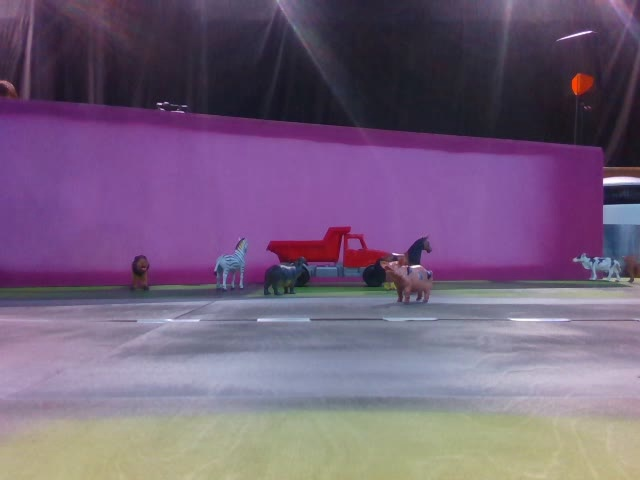toy: (377, 258, 447, 306), (212, 233, 257, 293), (259, 254, 319, 298), (570, 251, 627, 286), (125, 251, 157, 301)
